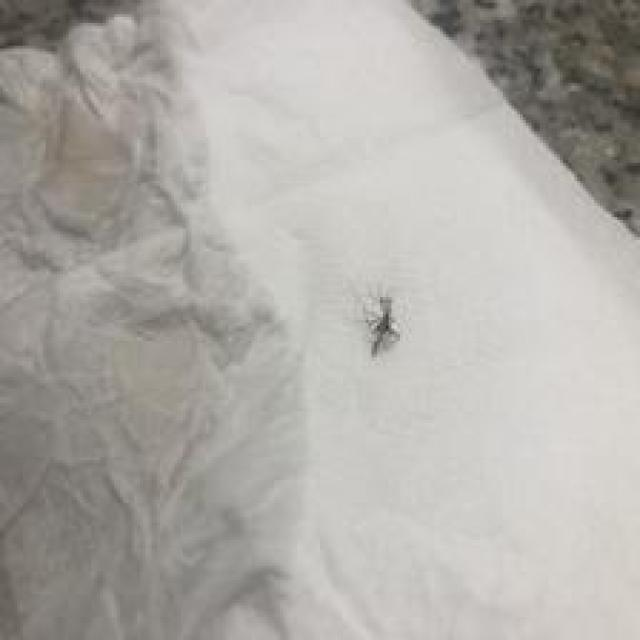Aedes albopictus: (362, 293, 402, 358)
